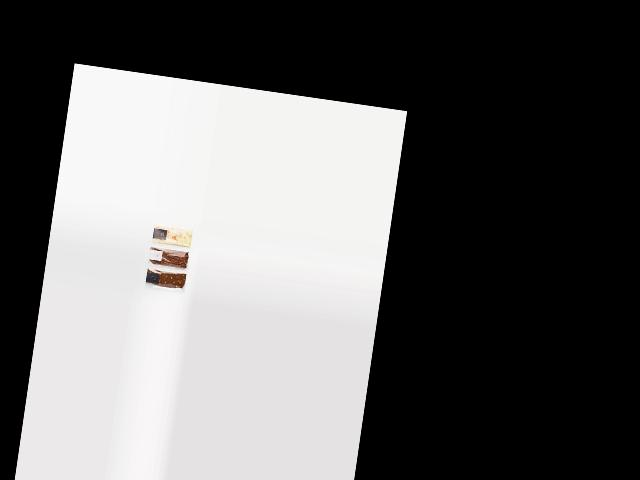chocolate: (145, 269, 188, 293)
